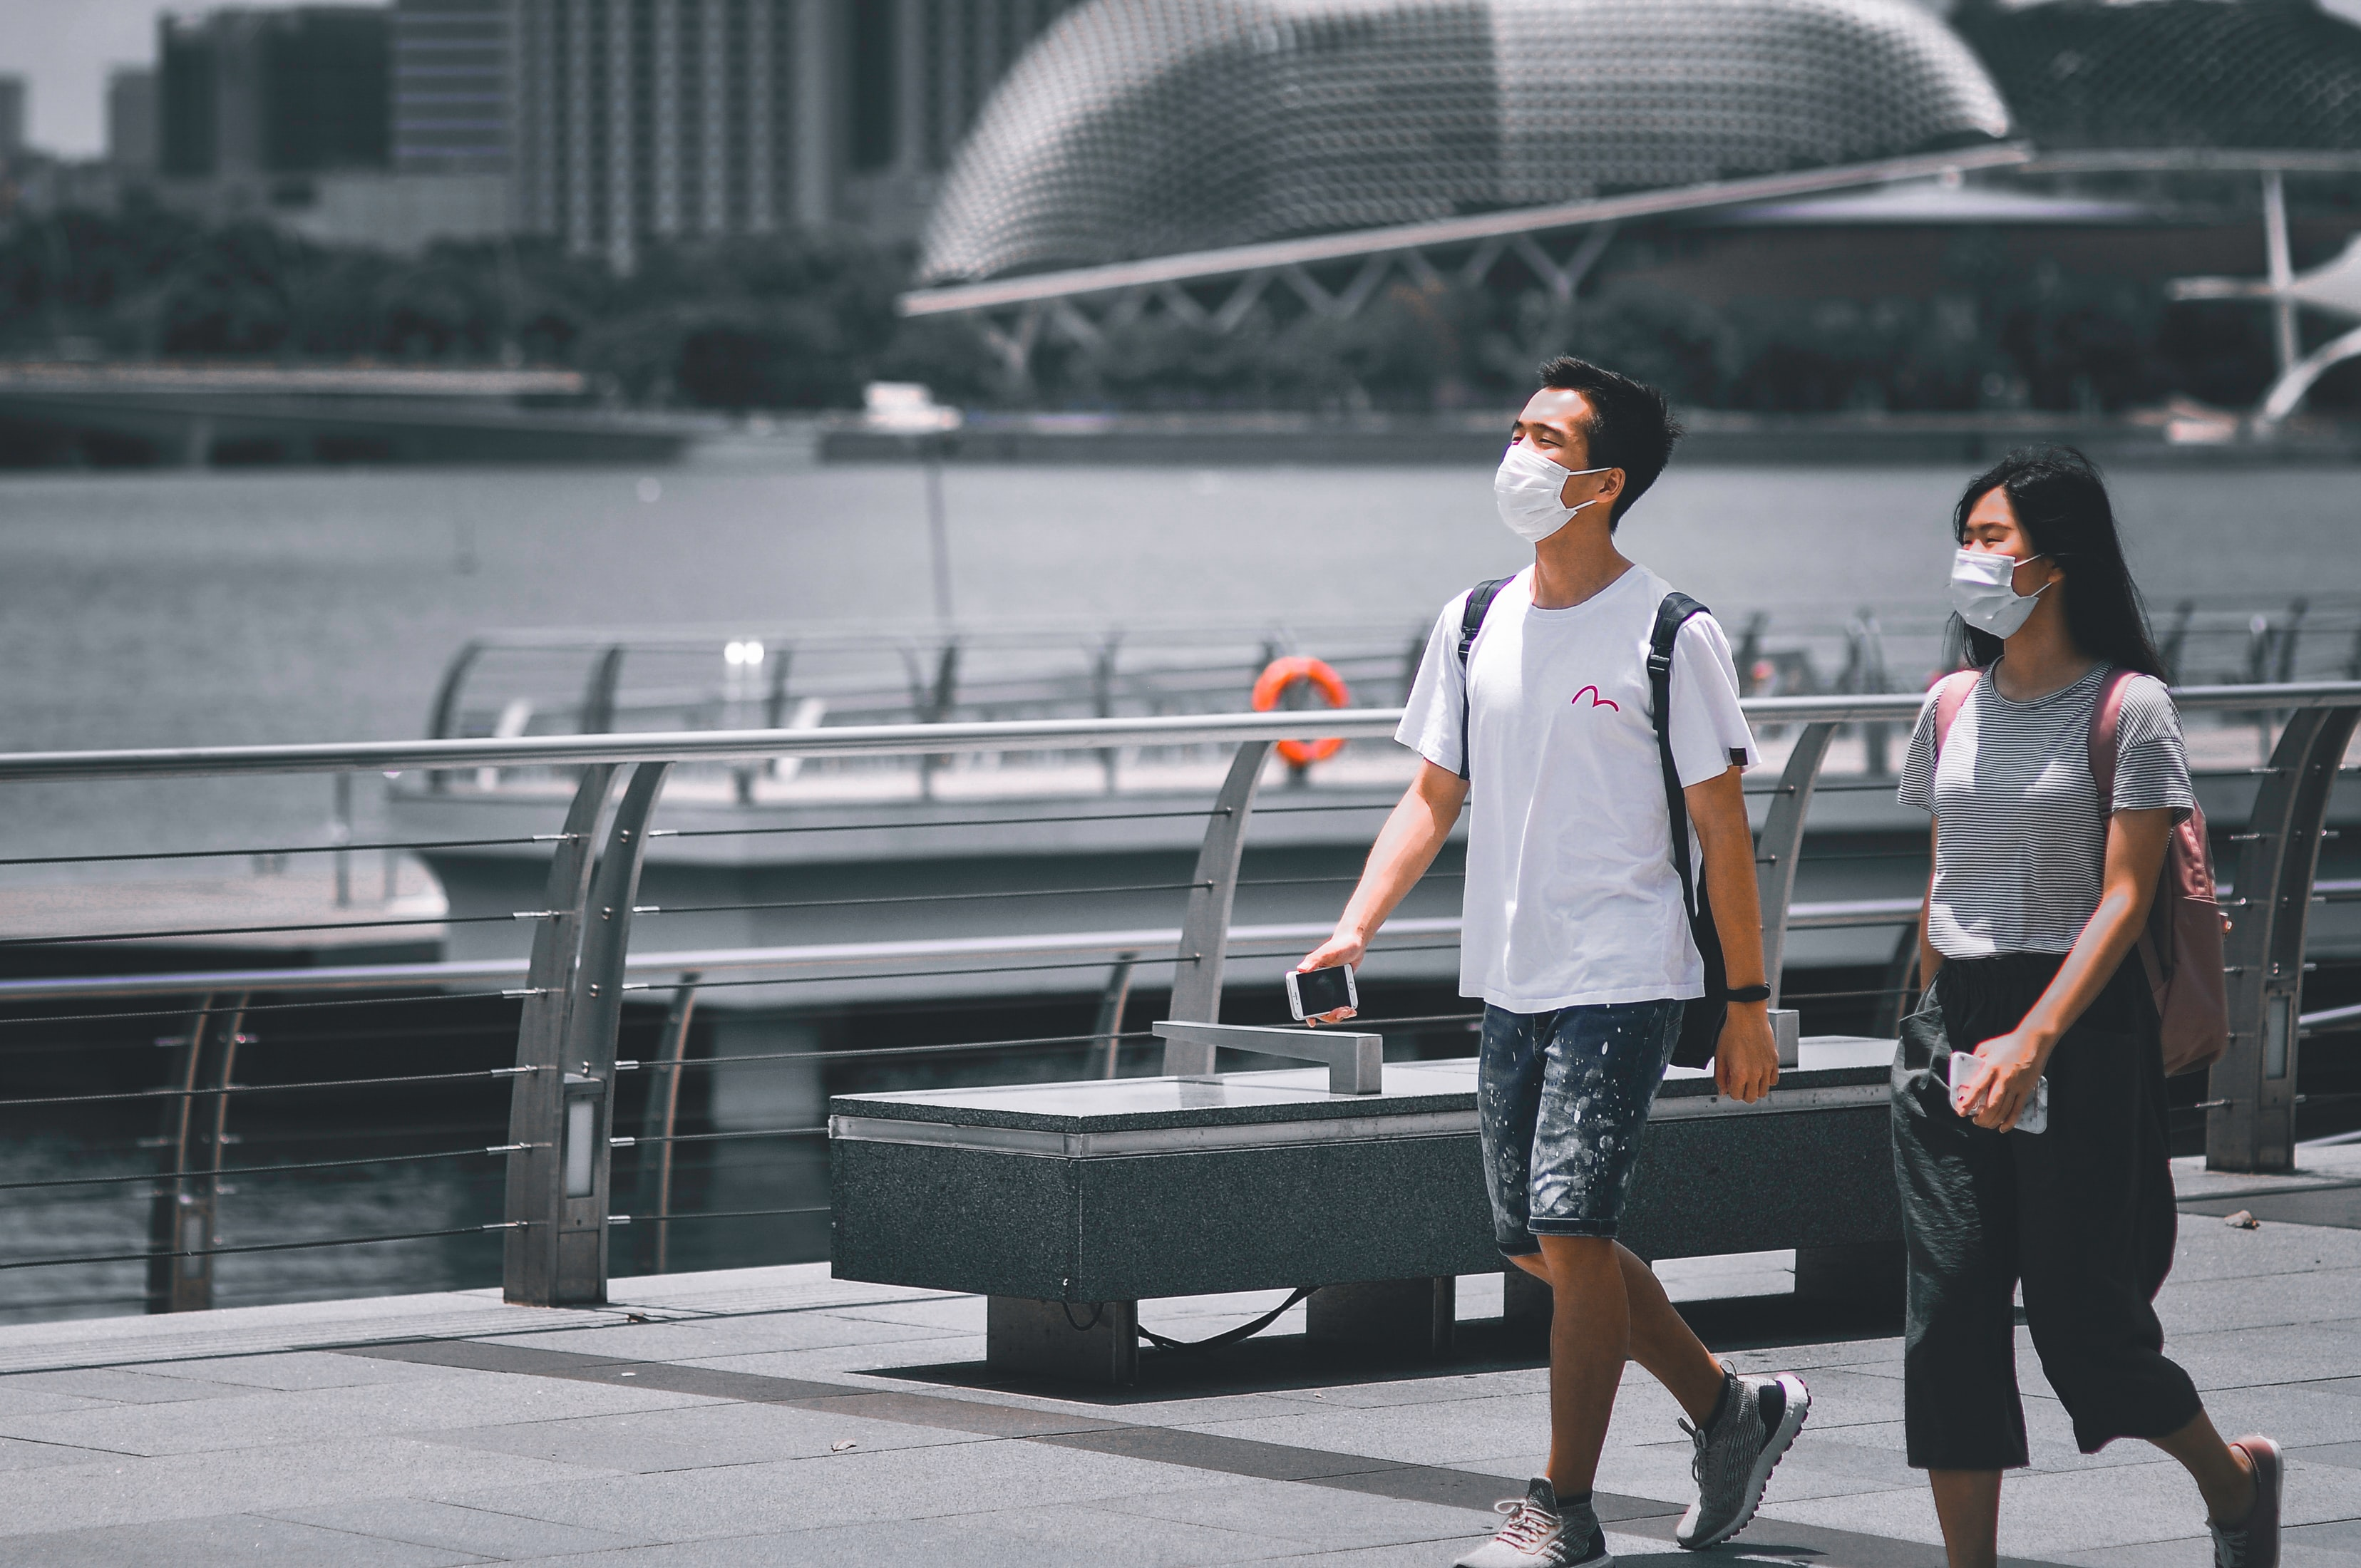mask: (1924, 543, 2094, 648), (1481, 443, 1650, 547)
person: (1272, 340, 1848, 1568), (1879, 421, 2298, 1568)
